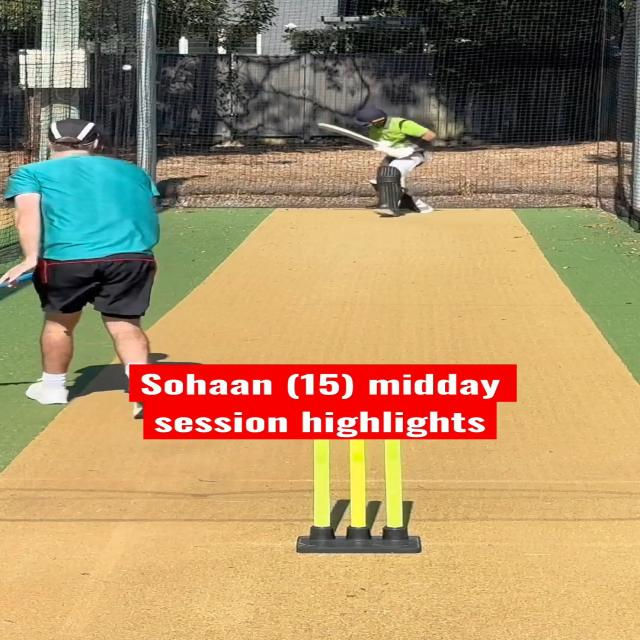ball: (122, 64, 136, 72)
stump: (298, 440, 422, 553)
